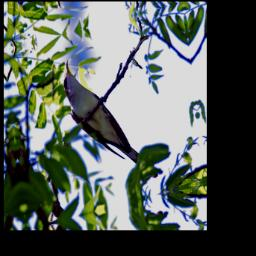Cuckoo: (60, 40, 159, 200)
